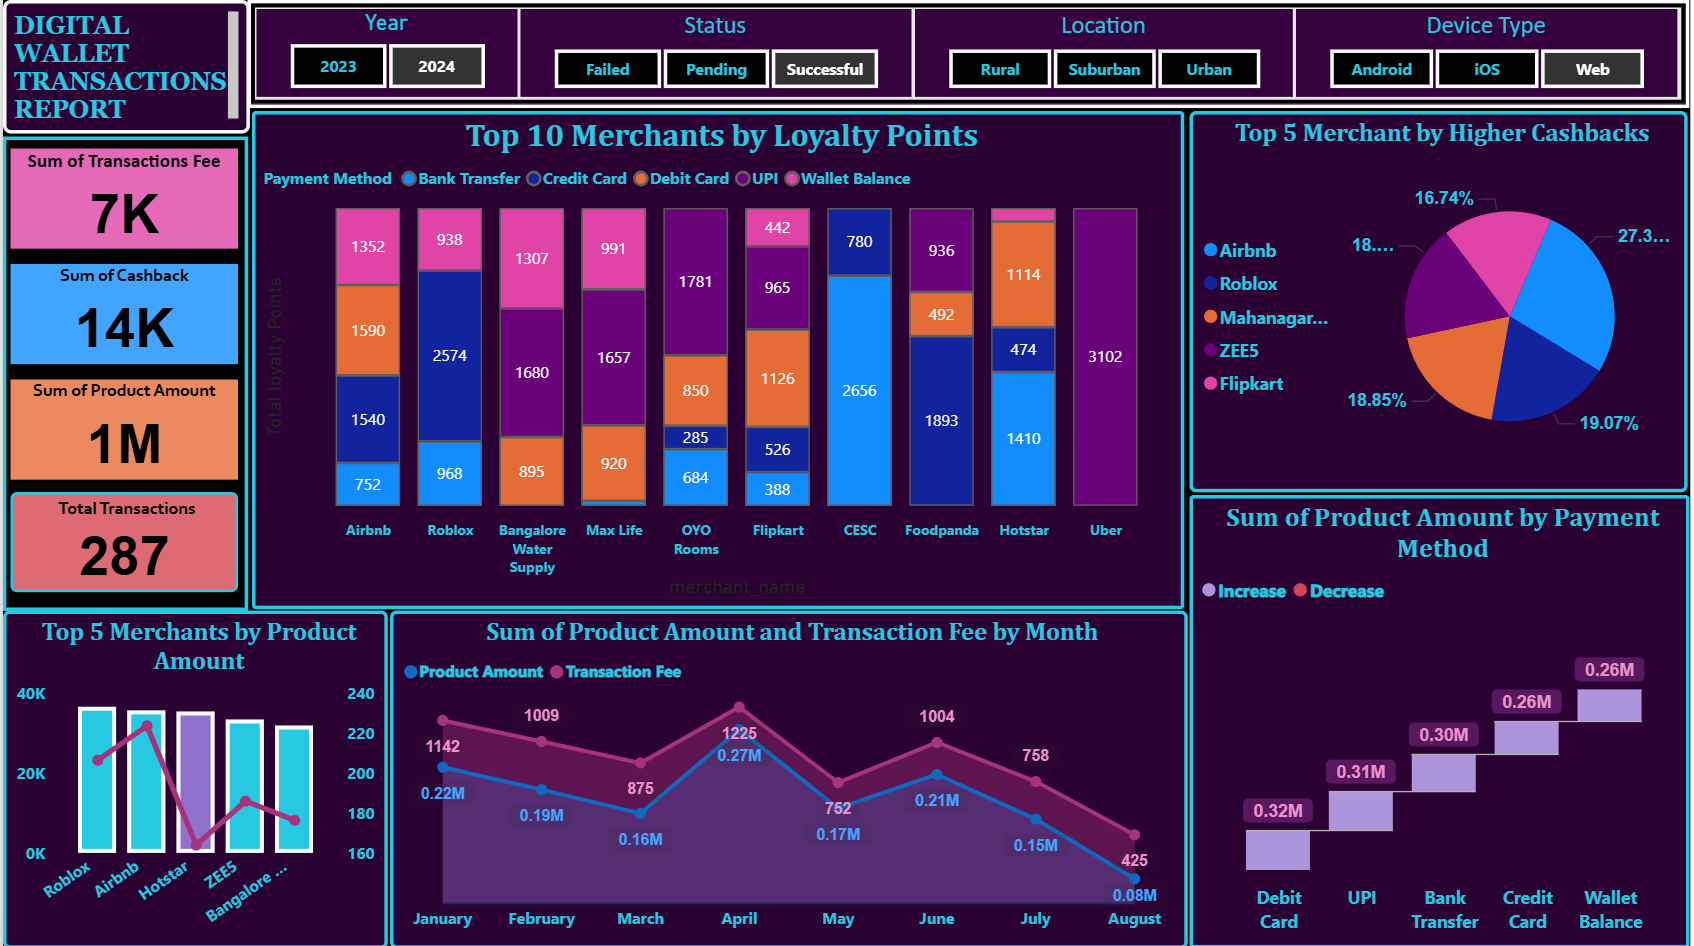

What the dashboard file says about the page in this screenshot:
{"tool":"powerbi","page":{"name":"Page 1","canvas":[1280,720],"ordinal":0},"visuals":[{"type":"shape","box":[0,103.3,186.2,360.2],"z":0},{"type":"shape","box":[185.8,0,1094.2,82],"z":1000},{"type":"slicer","title":"Year","fields":{"Values":["digital_wallet_transactions.transaction_date.Variation.Date Hierarchy.Year"]},"box":[192.9,7.1,198,66.7],"z":2000},{"type":"card","title":"Sum of Transactions Fee","fields":{"Values":["Sum(digital_wallet_transactions.transaction_fee)"]},"box":[6,113.1,172.6,76.2],"z":3000},{"type":"textbox","box":[0,0,187,101],"z":4000},{"type":"card","title":"Sum of Cashback","fields":{"Values":["Sum(digital_wallet_transactions.cashback)"]},"box":[5.4,199.8,172.6,76.1],"z":5000},{"type":"card","title":"Sum of Product Amount","fields":{"Values":["Sum(digital_wallet_transactions.product_amount)"]},"box":[5.4,288.1,172.6,76.1],"z":6000},{"type":"slicer","title":"Device Type","fields":{"Values":["digital_wallet_transactions.device_type"]},"box":[981,7.1,289.3,66.7],"z":7000},{"type":"slicer","title":"Location","fields":{"Values":["digital_wallet_transactions.location"]},"box":[691.8,6.8,286.8,66.6],"z":8000},{"type":"slicer","title":"Status","fields":{"Values":["digital_wallet_transactions.transaction_status"]},"box":[392.9,7.1,296.4,66.7],"z":9000},{"type":"lineStackedColumnComboChart","title":"Top 5 Merchants by Product Amount","fields":{"Category":["digital_wallet_transactions.merchant_name"],"Y":["Sum(digital_wallet_transactions.product_amount)"],"Y2":["Sum(digital_wallet_transactions.transaction_fee)"]},"box":[0,463.5,292.2,256.9],"z":10000},{"type":"lineChart","title":"Sum of Product Amount and Transaction Fee by Month","fields":{"Category":["digital_wallet_transactions.transaction_date.Variation.Date Hierarchy.Month"],"Y":["Sum(digital_wallet_transactions.product_amount)"],"Y2":["Sum(digital_wallet_transactions.transaction_fee)"]},"box":[293.6,463.1,605,256.9],"z":11000},{"type":"card","title":"Total Transactions","fields":{"Values":["Count(digital_wallet_transactions.transaction_id)"]},"box":[5.4,373.8,172.6,76.1],"z":12000},{"type":"pieChart","title":"Top 5 Merchant by Higher Cashbacks","fields":{"Category":["digital_wallet_transactions.merchant_name"],"Y":["Sum(digital_wallet_transactions.cashback)"]},"box":[899.7,84.3,378,289.5],"z":13000},{"type":"hundredPercentStackedColumnChart","title":"Top 10 Merchants by Loyalty Points","fields":{"Category":["digital_wallet_transactions.merchant_name"],"Y":["Sum(digital_wallet_transactions.loyalty_points)"],"Series":["digital_wallet_transactions.payment_method"]},"box":[188.9,84.3,707,377.8],"z":14000},{"type":"waterfallChart","title":"Sum of Product Amount by Payment Method","fields":{"Category":["digital_wallet_transactions.payment_method"],"Y":["Sum(digital_wallet_transactions.product_amount)"]},"box":[899.7,376.1,379.2,343.9],"z":15000}]}

Visuals, with their boxes in screenshot pixels (x1, y1, x2, y2), scaled from the page's 1280x720 canvas onto the 1694x946 screenshot:
shape: {"x1": 0, "y1": 136, "x2": 246, "y2": 609}
shape: {"x1": 246, "y1": 0, "x2": 1693, "y2": 108}
"Year" slicer: {"x1": 255, "y1": 9, "x2": 517, "y2": 97}
"Sum of Transactions Fee" card: {"x1": 8, "y1": 149, "x2": 236, "y2": 249}
textbox: {"x1": 0, "y1": 0, "x2": 247, "y2": 133}
"Sum of Cashback" card: {"x1": 7, "y1": 263, "x2": 236, "y2": 363}
"Sum of Product Amount" card: {"x1": 7, "y1": 379, "x2": 236, "y2": 479}
"Device Type" slicer: {"x1": 1298, "y1": 9, "x2": 1681, "y2": 97}
"Location" slicer: {"x1": 916, "y1": 9, "x2": 1295, "y2": 96}
"Status" slicer: {"x1": 520, "y1": 9, "x2": 912, "y2": 97}
"Top 5 Merchants by Product Amount" lineStackedColumnComboChart: {"x1": 0, "y1": 609, "x2": 387, "y2": 945}
"Sum of Product Amount and Transaction Fee by Month" lineChart: {"x1": 389, "y1": 608, "x2": 1189, "y2": 945}
"Total Transactions" card: {"x1": 7, "y1": 491, "x2": 236, "y2": 591}
"Top 5 Merchant by Higher Cashbacks" pieChart: {"x1": 1191, "y1": 111, "x2": 1691, "y2": 491}
"Top 10 Merchants by Loyalty Points" hundredPercentStackedColumnChart: {"x1": 250, "y1": 111, "x2": 1186, "y2": 607}
"Sum of Product Amount by Payment Method" waterfallChart: {"x1": 1191, "y1": 494, "x2": 1693, "y2": 945}
